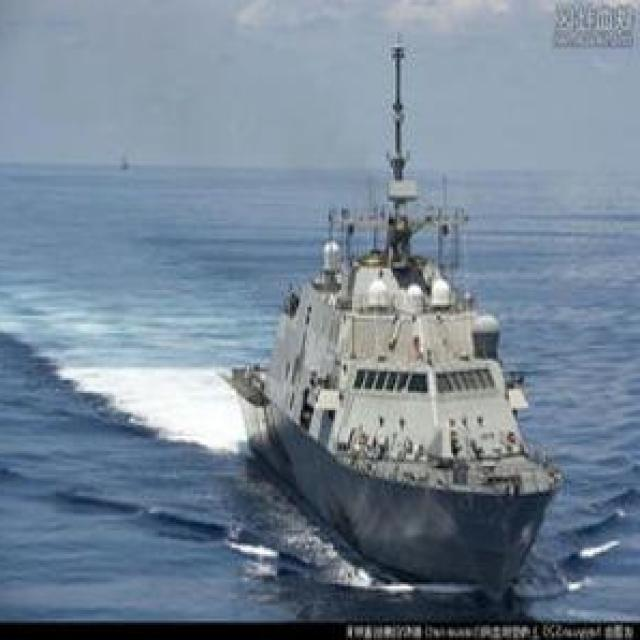passenger ship: (224, 23, 560, 583)
